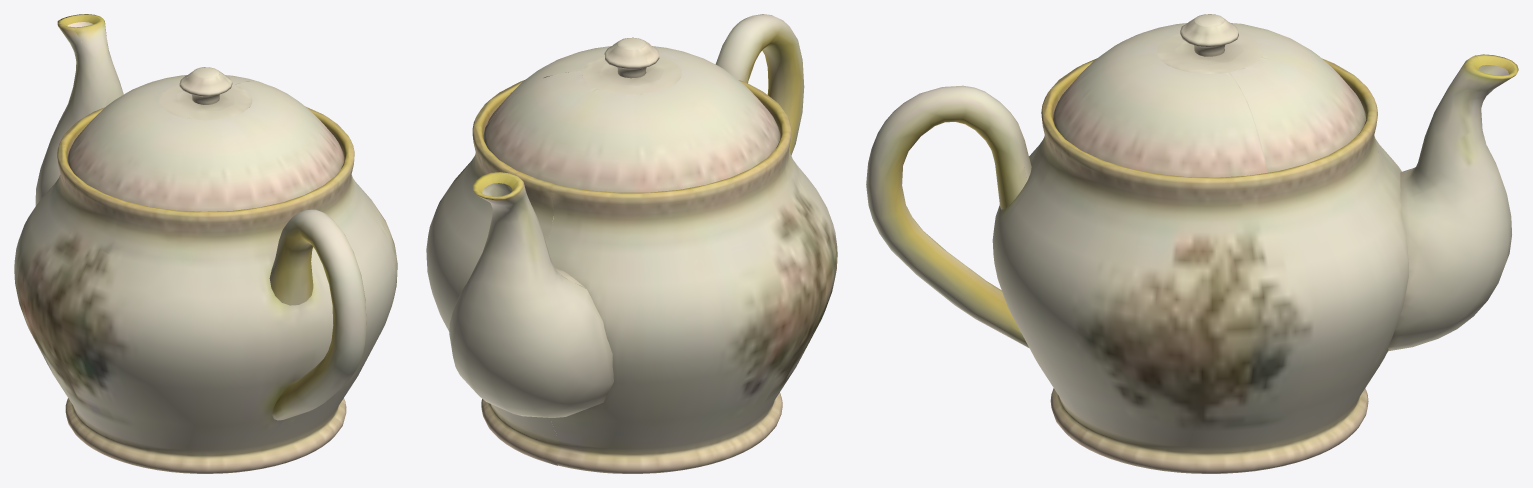
Rendered from obj_teapot_2.glb.
3 views of the same model, side by side, from view 1: azimuth 30°, elevation 25°; view 2: azimuth 150°, elevation 25°; view 3: azimuth 270°, elevation 25° (orthographic). The views are drawn at different scales.
Parts seen in each view (by area): view 1: handle_lambert1_0; view 2: handle_lambert1_0; view 3: handle_lambert1_0.
Boxes of the visible parts, bbox=[...] form: handle_lambert1_0: bbox=[14, 14, 397, 473]; handle_lambert1_0: bbox=[426, 14, 837, 473]; handle_lambert1_0: bbox=[866, 14, 1518, 473].
Bounding box in the file's own units: 0.2006 × 0.1999 × 0.3018.
1 material, 1 textured.
